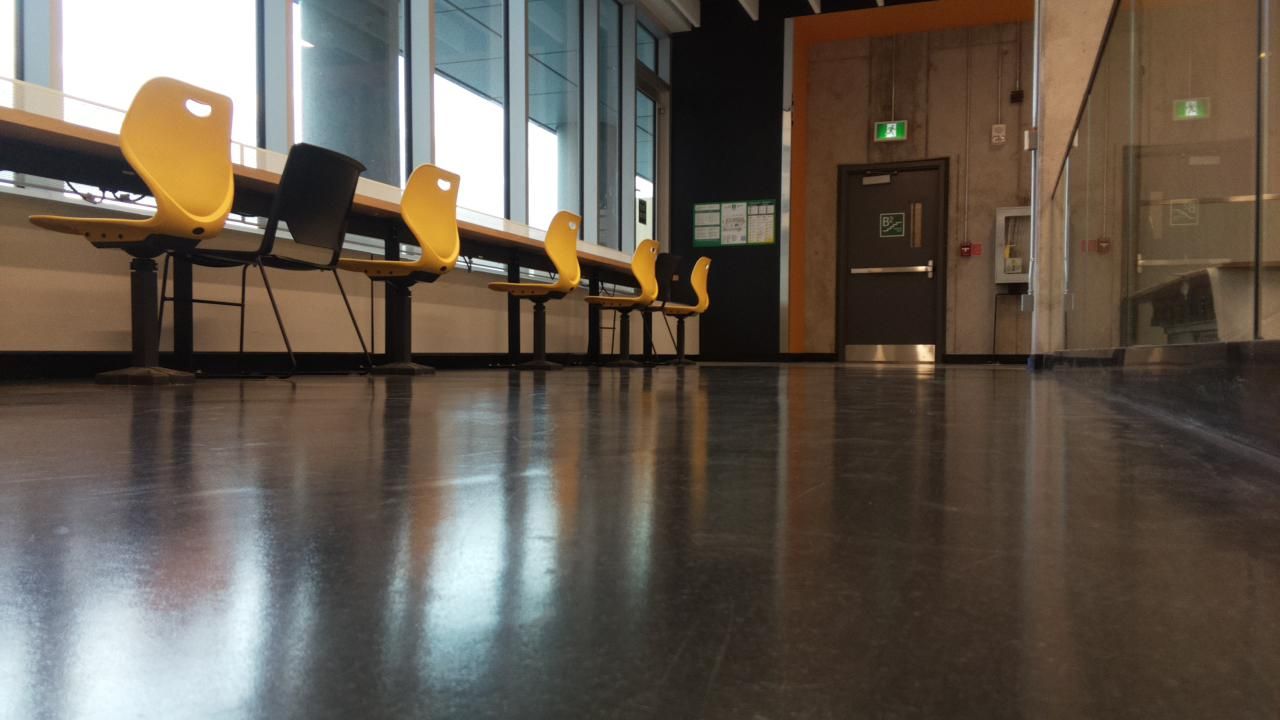door: (846, 169, 938, 361)
sign: (693, 200, 775, 244), (874, 120, 906, 140), (880, 213, 904, 236)
